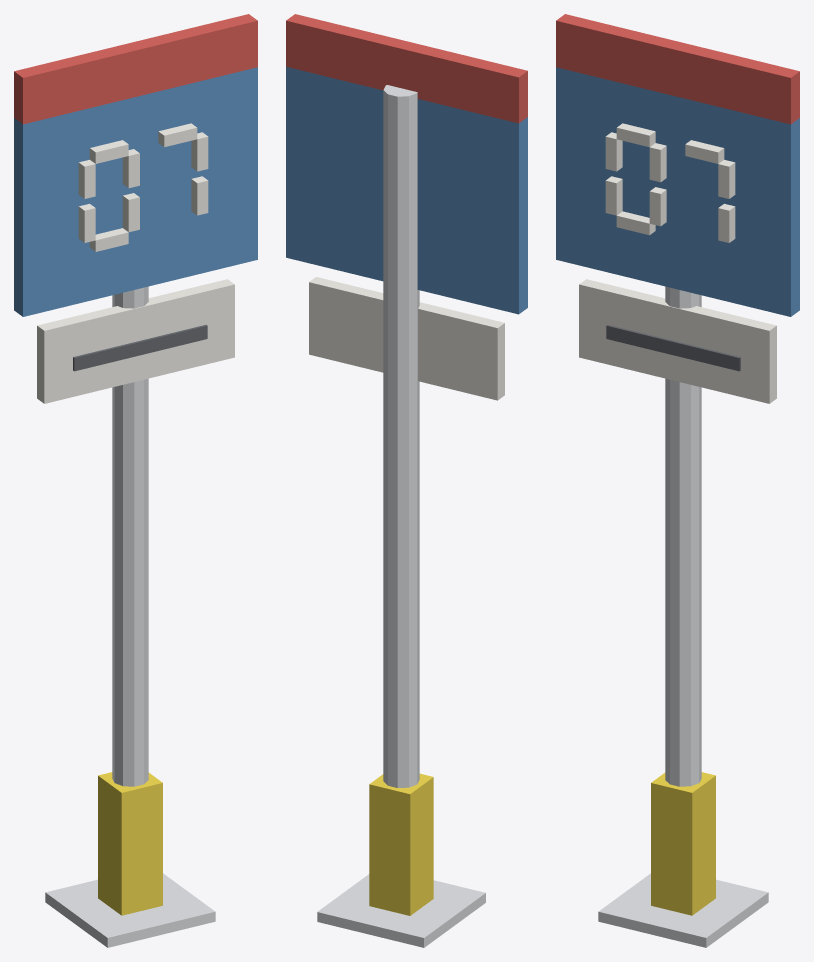
The model's file is parcel-depot-and-sorting-hall-parcel-depot-and-sorting-36150cf2__34812.glb.
The picture shows the model from 3 angles, left to right: view 1: azimuth 30°, elevation 25°; view 2: azimuth 150°, elevation 25°; view 3: azimuth 330°, elevation 25°; orthographic projection.
Parts seen in each view (by area): view 1: parcel-depot-and-sorting-hall-bay-number-sign; view 2: parcel-depot-and-sorting-hall-bay-number-sign; view 3: parcel-depot-and-sorting-hall-bay-number-sign.
Part boxes in pixels (x1,y1,x2,y2): parcel-depot-and-sorting-hall-bay-number-sign: (14,14,257,947); parcel-depot-and-sorting-hall-bay-number-sign: (286,14,527,947); parcel-depot-and-sorting-hall-bay-number-sign: (556,14,799,947).
Bounding box in the file's own units: 0.74 × 2.62 × 0.34.
